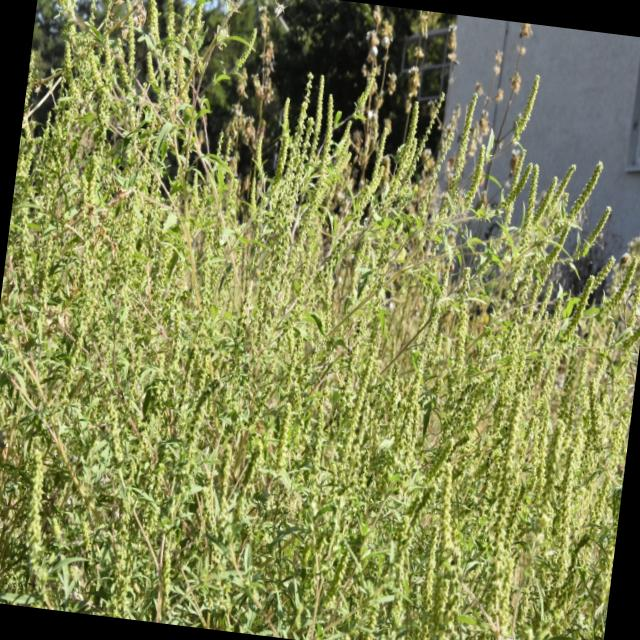ambrosia: (408, 68, 620, 449), (212, 72, 376, 446), (0, 391, 195, 623), (42, 0, 223, 213), (393, 434, 549, 640)
